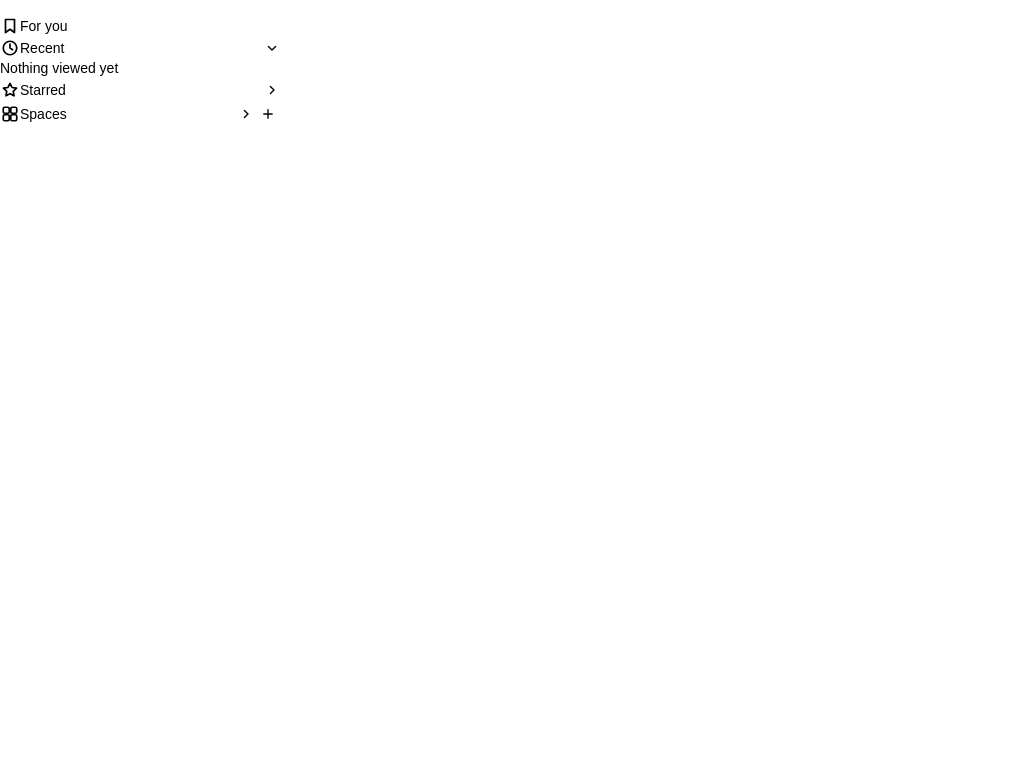
Test: JL-156 creating from the sidebar › surfaces the SERVER message on a duplicate key
This screenshot has width=1024, height=768.
Click the button named "Create a space" at [268, 114], box [256,102,280,126]
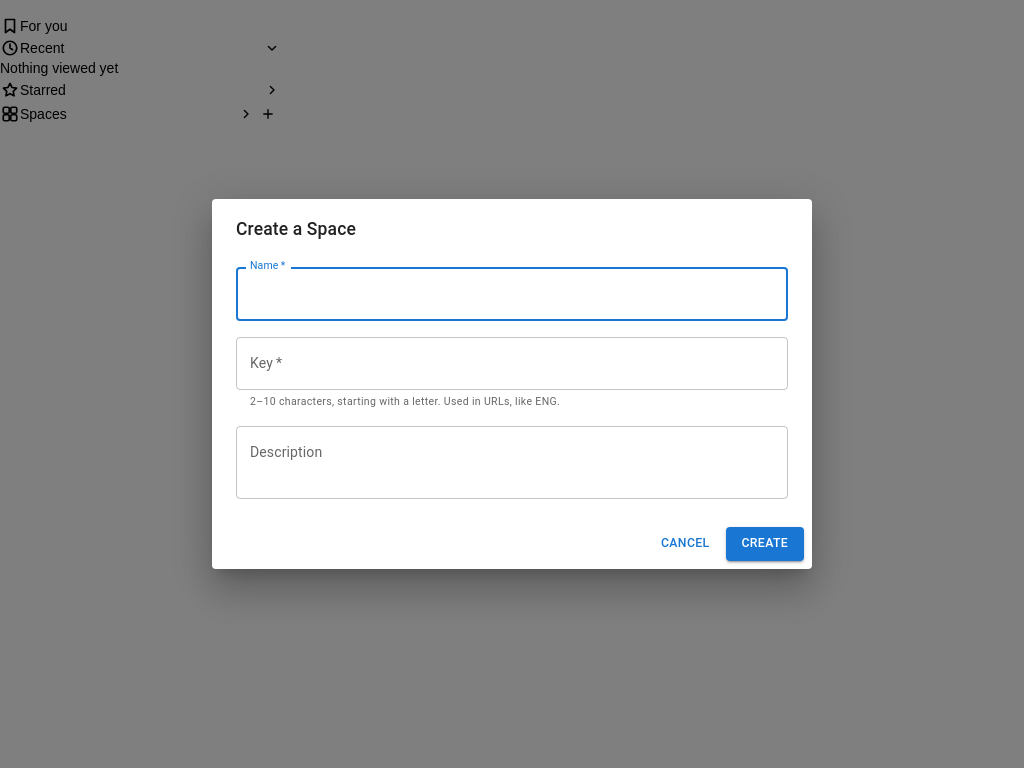
Type "Eng" into the field labelled "Name *" at [512, 294], box [236,267,788,320]
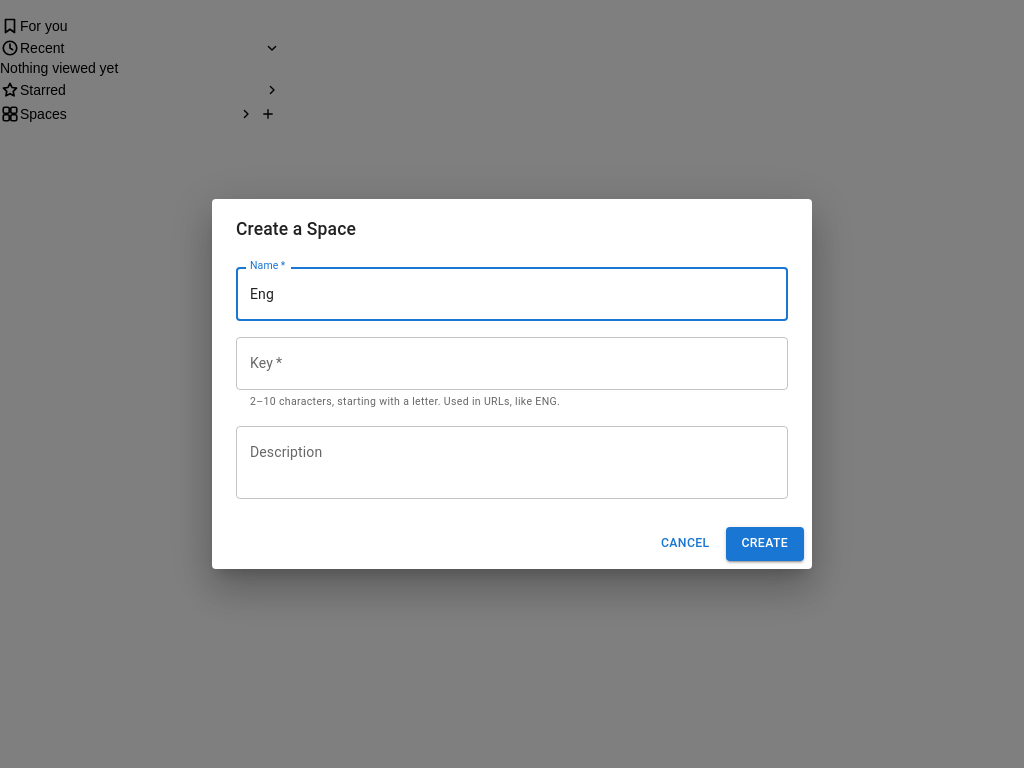
Type "ENG" into the field labelled "Key *" at [512, 363], box [236,337,788,390]
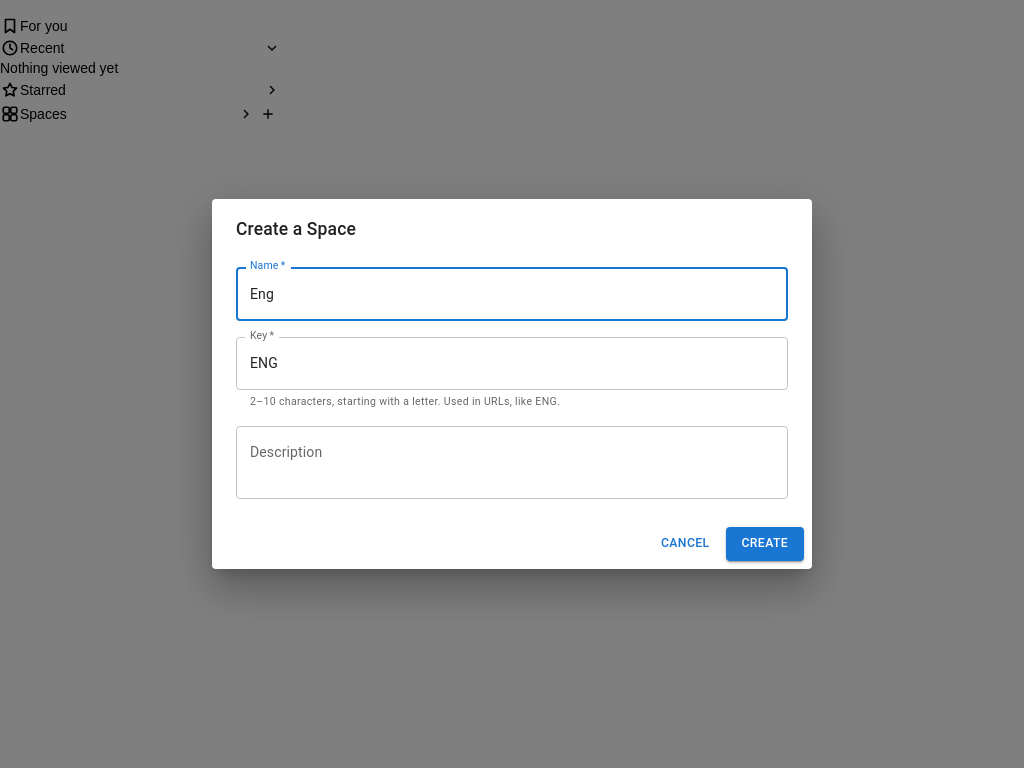
Click the button "Create" at [765, 544], box [726,527,804,560]
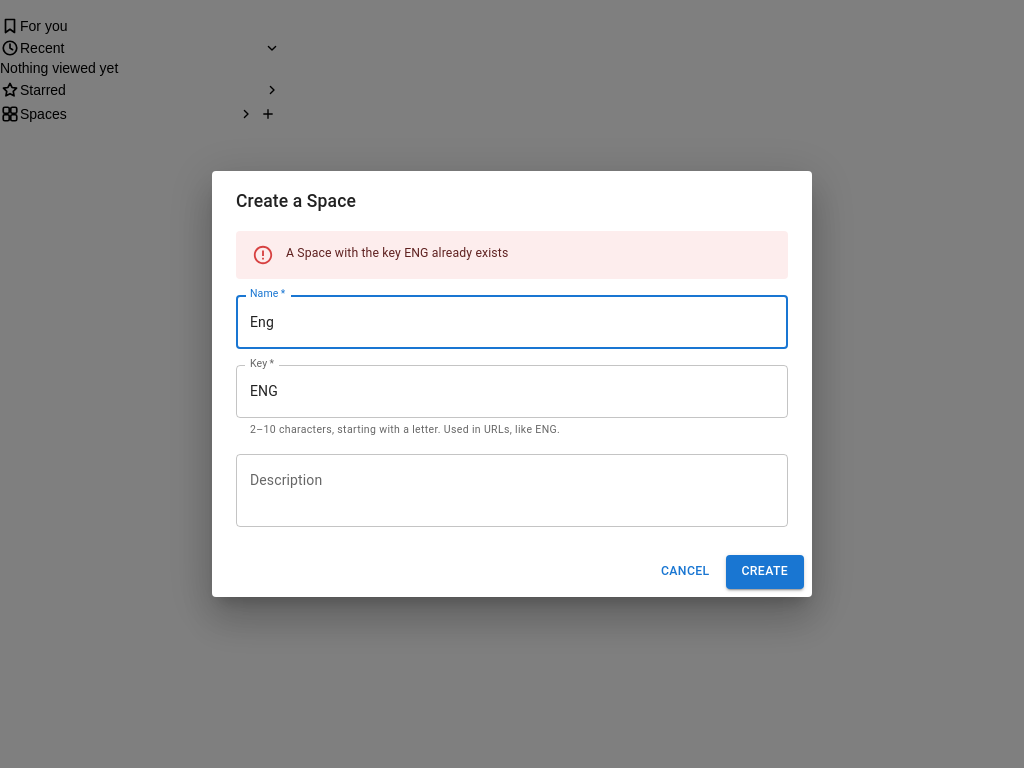
Expected: the heading "Create a Space" is shown, [236,191,356,211]
Expected: the text "A Space with the key ENG already exists" is shown, [286,246,508,260]
